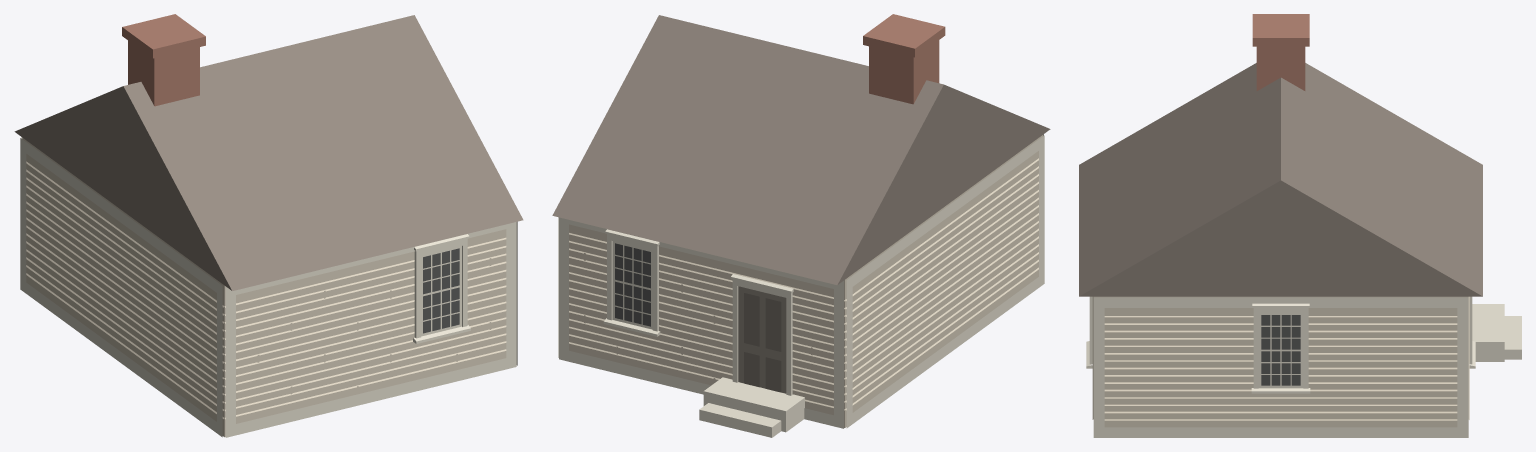
File: recon_1835_blk_school_section_tier_94_d3_05__inferred_1835.glb
3 views of the same model, side by side, from view 1: azimuth 30°, elevation 25°; view 2: azimuth 150°, elevation 25°; view 3: azimuth 270°, elevation 25° (orthographic). The views are drawn at different scales.
Visible parts, largest first — view 1: recon_1835_blk_school_section_tier_94_d3_05__inferred_1835; view 2: recon_1835_blk_school_section_tier_94_d3_05__inferred_1835; view 3: recon_1835_blk_school_section_tier_94_d3_05__inferred_1835.
Boxes of the visible parts, box(x1,y1,x2,y2) form: recon_1835_blk_school_section_tier_94_d3_05__inferred_1835: box(14, 14, 523, 437); recon_1835_blk_school_section_tier_94_d3_05__inferred_1835: box(552, 14, 1050, 437); recon_1835_blk_school_section_tier_94_d3_05__inferred_1835: box(1079, 14, 1521, 437).
Size of the model in its own units: 5.51 by 5.65 by 7.62.
